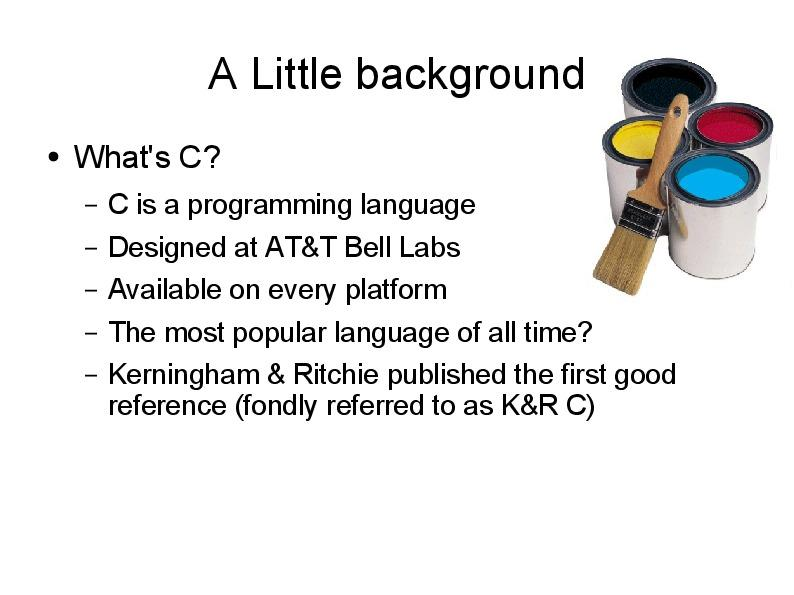paragraph: (83, 178, 702, 465)
subtitle: (68, 137, 223, 177)
title: (197, 42, 598, 103)
